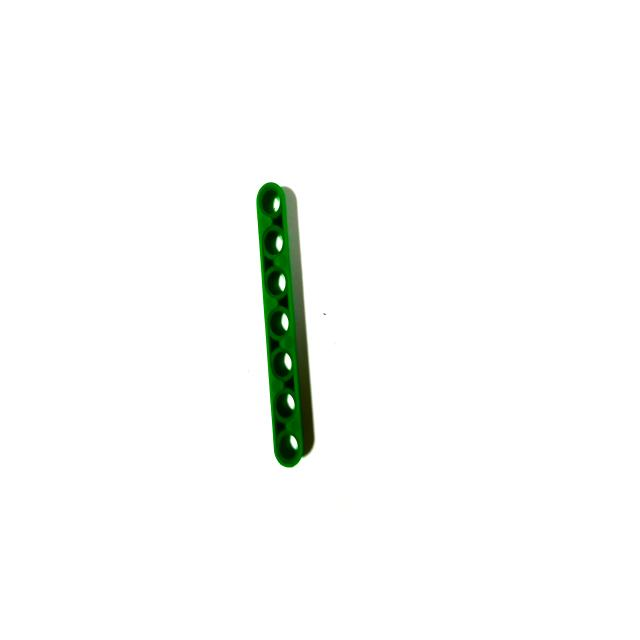Green_Large: (256, 182, 305, 468)
